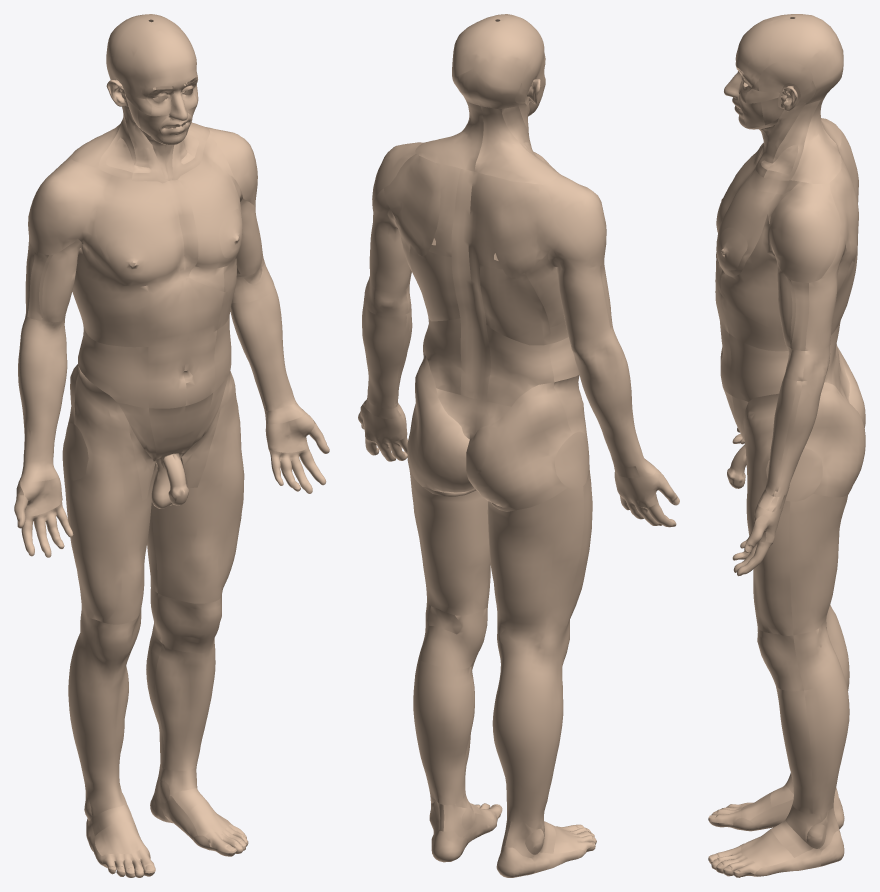
File: skin-surface.glb
3 renders of one model, left to right at view 1: azimuth 30°, elevation 25°; view 2: azimuth 150°, elevation 25°; view 3: azimuth 270°, elevation 25°, orthographic.
Parts seen in each view (by area): view 1: skin-bde75896e8bd, skin-27fc864c1cbc, skin-ee1a12fbaaa5, skin-7b96535e4e77, skin-df36c6532749, skin-d739074c1bfe, skin-f324264a639a, skin-17bf4bea0a9e, skin-ebd3e1765a41, skin-e4bdbadd2fb1, skin-17e7bc88280f, skin-9bc938e75009 (+48 smaller); view 2: skin-8307ddd468d0, skin-2589d12bf7f1, skin-ae69407804d1, skin-115204bfc0d2, skin-b6c91c8f6f2c, skin-c0df34ba30a8, skin-6be303e428a8, skin-58babefad269, skin-5f215560d96c, skin-b0936d690e4f, skin-b735a06ecc36, skin-35756f58ffdf (+35 smaller); view 3: skin-27fc864c1cbc, skin-ae69407804d1, skin-28454531410f, skin-c0df34ba30a8, skin-b6c91c8f6f2c, skin-69ed877510e6, skin-5cf5b5fcf4d5, skin-ee1a12fbaaa5, skin-845e0d8fe6a9, skin-17e7bc88280f, skin-45e91fff6143, skin-f125ef7fdb69 (+49 smaller).
Boxes of the visible parts, bbox=[...] form: skin-bde75896e8bd: bbox=[69, 366, 156, 624]; skin-27fc864c1cbc: bbox=[152, 367, 244, 603]; skin-ee1a12fbaaa5: bbox=[155, 643, 215, 770]; skin-7b96535e4e77: bbox=[75, 663, 128, 789]; skin-df36c6532749: bbox=[95, 187, 176, 286]; skin-d739074c1bfe: bbox=[28, 156, 91, 255]; skin-f324264a639a: bbox=[231, 288, 295, 410]; skin-17bf4bea0a9e: bbox=[21, 344, 67, 467]; skin-ebd3e1765a41: bbox=[72, 207, 149, 318]; skin-e4bdbadd2fb1: bbox=[78, 327, 148, 407]; skin-17e7bc88280f: bbox=[185, 161, 241, 268]; skin-9bc938e75009: bbox=[156, 593, 221, 653]; skin-8307ddd468d0: bbox=[487, 486, 584, 632]; skin-2589d12bf7f1: bbox=[466, 382, 572, 509]; skin-ae69407804d1: bbox=[408, 462, 490, 615]; skin-115204bfc0d2: bbox=[492, 680, 559, 822]; skin-b6c91c8f6f2c: bbox=[413, 659, 472, 805]; skin-c0df34ba30a8: bbox=[407, 351, 474, 492]; skin-6be303e428a8: bbox=[490, 181, 563, 277]; skin-58babefad269: bbox=[548, 232, 611, 339]; skin-5f215560d96c: bbox=[479, 264, 550, 345]; skin-b0936d690e4f: bbox=[383, 154, 440, 256]; skin-b735a06ecc36: bbox=[575, 359, 645, 466]; skin-35756f58ffdf: bbox=[451, 169, 477, 398]; skin-27fc864c1cbc: bbox=[743, 393, 793, 635]; skin-ae69407804d1: bbox=[789, 494, 847, 635]; skin-28454531410f: bbox=[769, 182, 840, 282]; skin-c0df34ba30a8: bbox=[804, 382, 865, 497]; skin-b6c91c8f6f2c: bbox=[804, 668, 849, 813]; skin-69ed877510e6: bbox=[720, 214, 852, 329]; skin-5cf5b5fcf4d5: bbox=[768, 18, 843, 84]; skin-ee1a12fbaaa5: bbox=[776, 686, 812, 813]; skin-845e0d8fe6a9: bbox=[729, 333, 788, 401]; skin-17e7bc88280f: bbox=[716, 181, 775, 276]; skin-45e91fff6143: bbox=[805, 233, 845, 350]; skin-f125ef7fdb69: bbox=[791, 96, 841, 183].
Size of the model in its own units: 0.6801 by 1.71 by 0.294.
